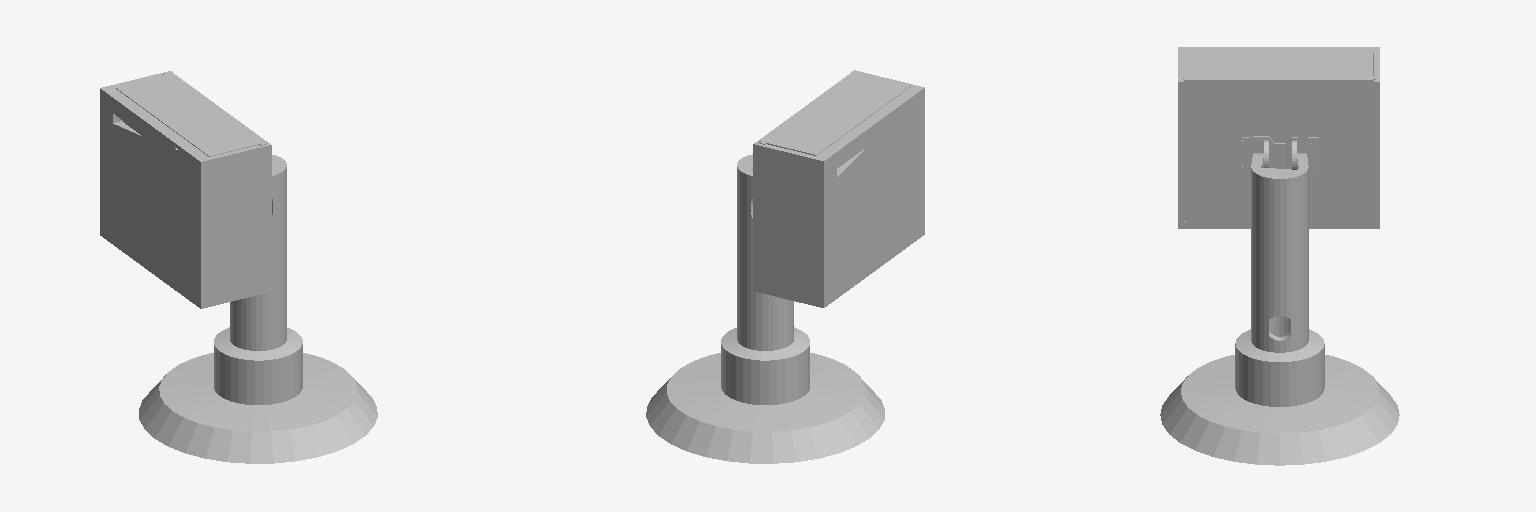
File: scanner.obj
3 renders of one model, left to right at view 1: azimuth 30°, elevation 25°; view 2: azimuth 150°, elevation 25°; view 3: azimuth 270°, elevation 25°, orthographic.
Visible parts, largest first — view 1: Cylinder.003, Cube, Cube.001; view 2: Cylinder.003, Cube, Cube.001; view 3: Cylinder.003, Cube.001, Cube, Cube.002.
Part boxes in pixels (x1,y1,x2,y2): Cylinder.003: (139, 155, 377, 463); Cube: (100, 71, 271, 308); Cube.001: (115, 73, 267, 156); Cylinder.003: (646, 154, 884, 463); Cube: (753, 70, 924, 307); Cube.001: (758, 71, 910, 155); Cylinder.003: (1160, 153, 1399, 465); Cube.001: (1181, 52, 1375, 220); Cube: (1178, 47, 1379, 228); Cube.002: (1243, 136, 1318, 172).
Bounding box in the file's own units: 0.1091 × 0.1552 × 0.1067.